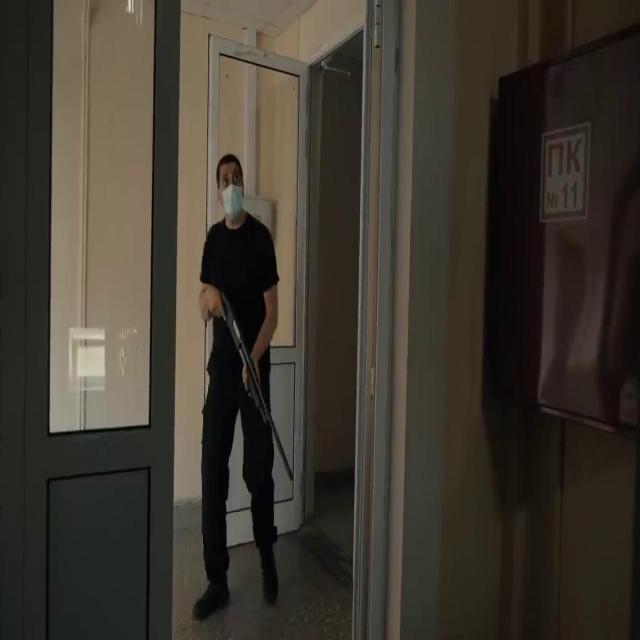pistol: (217, 286, 295, 483)
